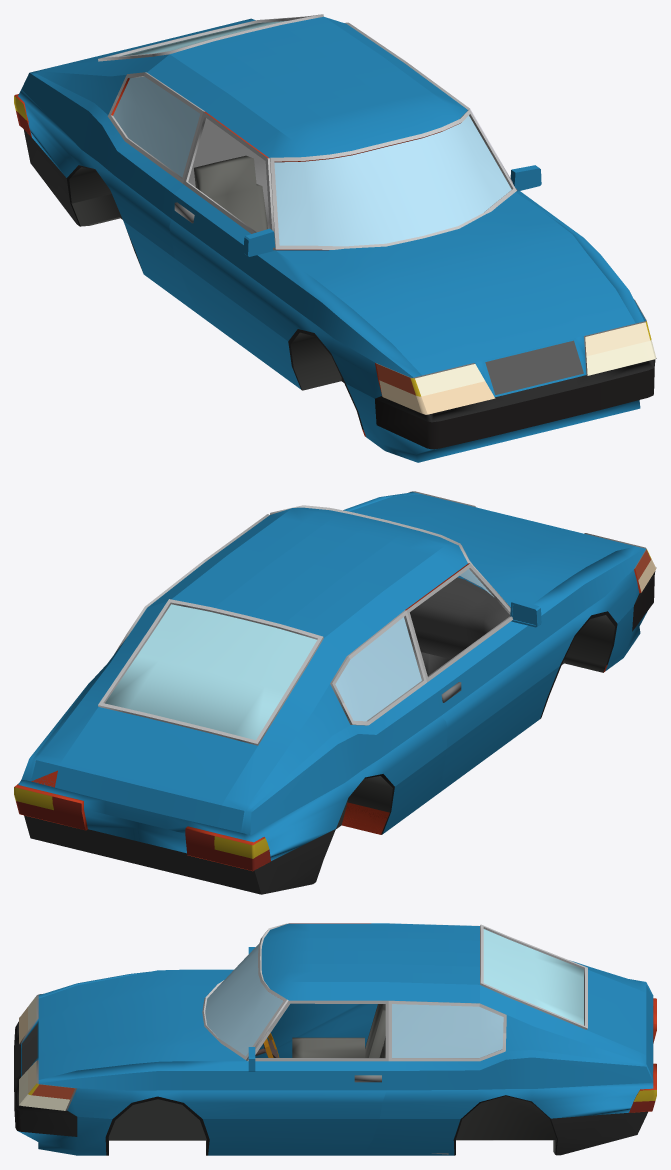
File: Turbo_Blue.fbx
3 renders of one model, top to bottom at view 1: azimuth 30°, elevation 25°; view 2: azimuth 150°, elevation 25°; view 3: azimuth 270°, elevation 25°, orthographic. The views are drawn at different scales.
Visible parts, largest first — view 1: Chassi, Hood, Glass, Door_R, Seats, Trunk, Door_L, TrunkGlass; view 2: Chassi, Trunk, TrunkGlass, Door_R, Hood, Glass; view 3: Chassi, Hood, Door_L, Glass, TrunkGlass, Trunk, Door_R, Seats.
Part boxes in pixels (<box>): Chassi: <box>14,16,656,462</box>; Hood: <box>276,192,635,375</box>; Glass: <box>113,76,511,246</box>; Door_R: <box>169,111,278,372</box>; Seats: <box>194,155,267,232</box>; Trunk: <box>63,14,323,64</box>; Door_L: <box>405,62,541,195</box>; TrunkGlass: <box>120,21,286,56</box>; Chassi: <box>14,491,656,894</box>; Trunk: <box>55,599,323,826</box>; TrunkGlass: <box>105,604,316,740</box>; Door_R: <box>405,563,541,791</box>; Hood: <box>349,494,634,607</box>; Glass: <box>335,560,493,721</box>; Chassi: <box>14,923,656,1155</box>; Hood: <box>38,969,246,1079</box>; Door_L: <box>242,1000,388,1155</box>; Glass: <box>205,944,503,1057</box>; TrunkGlass: <box>483,929,583,1025</box>; Trunk: <box>480,924,652,1068</box>; Door_R: <box>248,923,377,1057</box>; Seats: <box>292,1004,385,1057</box>.
Size of the model in its own units: 2.14 by 1.42 by 5.18.
